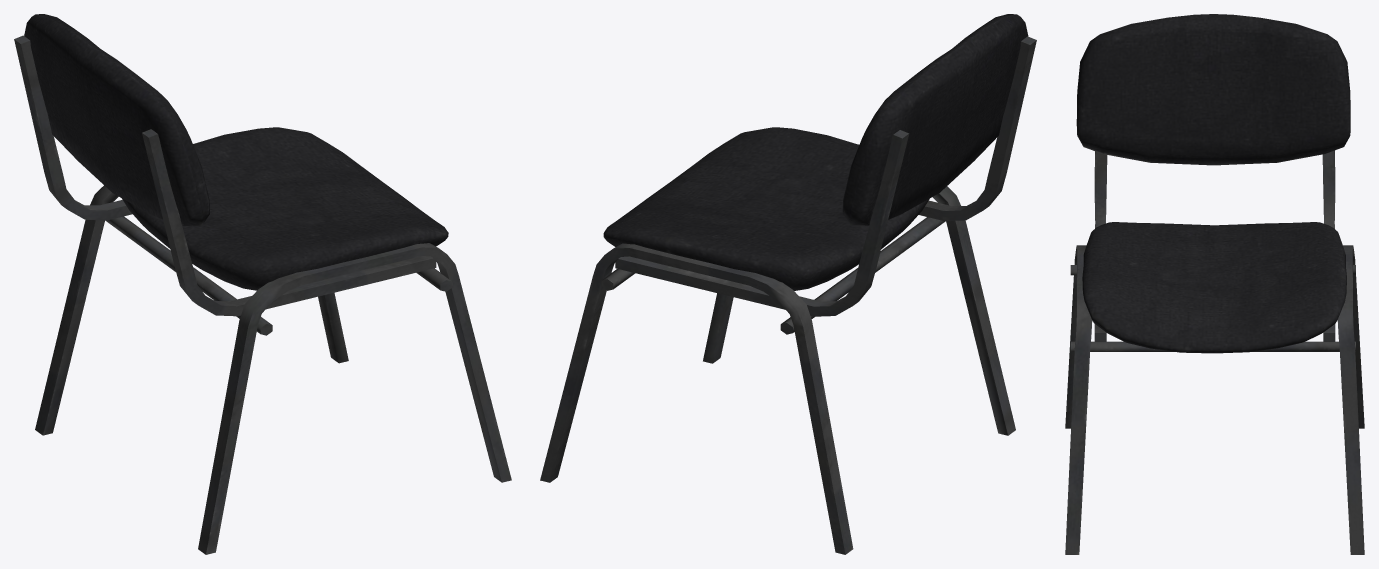
Rendered from chaise2mini.gltf.
3 renders of one model, left to right at view 1: azimuth 30°, elevation 25°; view 2: azimuth 150°, elevation 25°; view 3: azimuth 270°, elevation 25°, orthographic. The views are drawn at different scales.
Visible parts, largest first — view 1: Chair_51; view 2: Chair_51; view 3: Chair_51.
Part boxes in pixels (left/top/right/bottom): Chair_51: left=14, top=14, right=511, bottom=554; Chair_51: left=540, top=14, right=1036, bottom=554; Chair_51: left=1065, top=14, right=1364, bottom=554.
Size of the model in its own units: 0.7866 by 0.9848 by 0.6718.
Materials: 1 (1 with a texture image).
